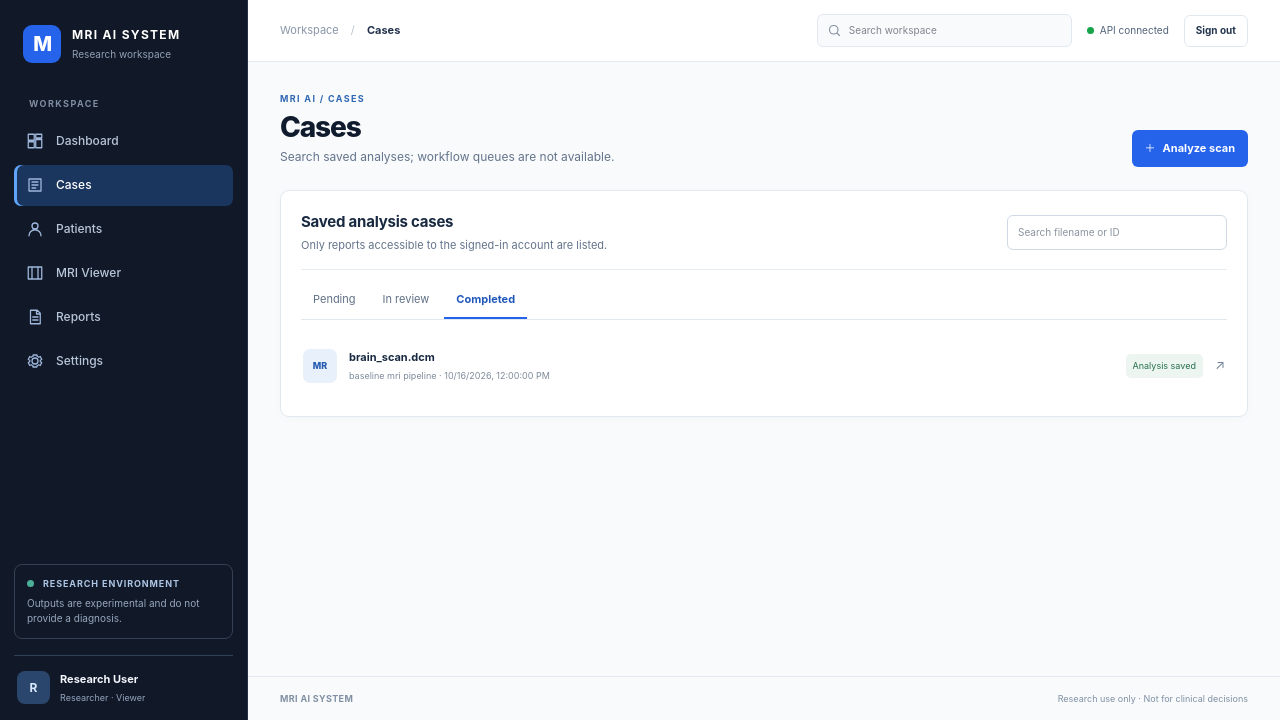
Test: MRI research workspace › shows real owned counts and navigates all available sections
expect the text "brain_scan.dcm" is shown: met, box [349,350,435,364]
expect the heading "Cases" is shown: met, box [280,110,361,144]
Type "no-match" into the field with placeholder "Search filename or ID". click: (1117, 233)
box: [1007,215,1227,250]
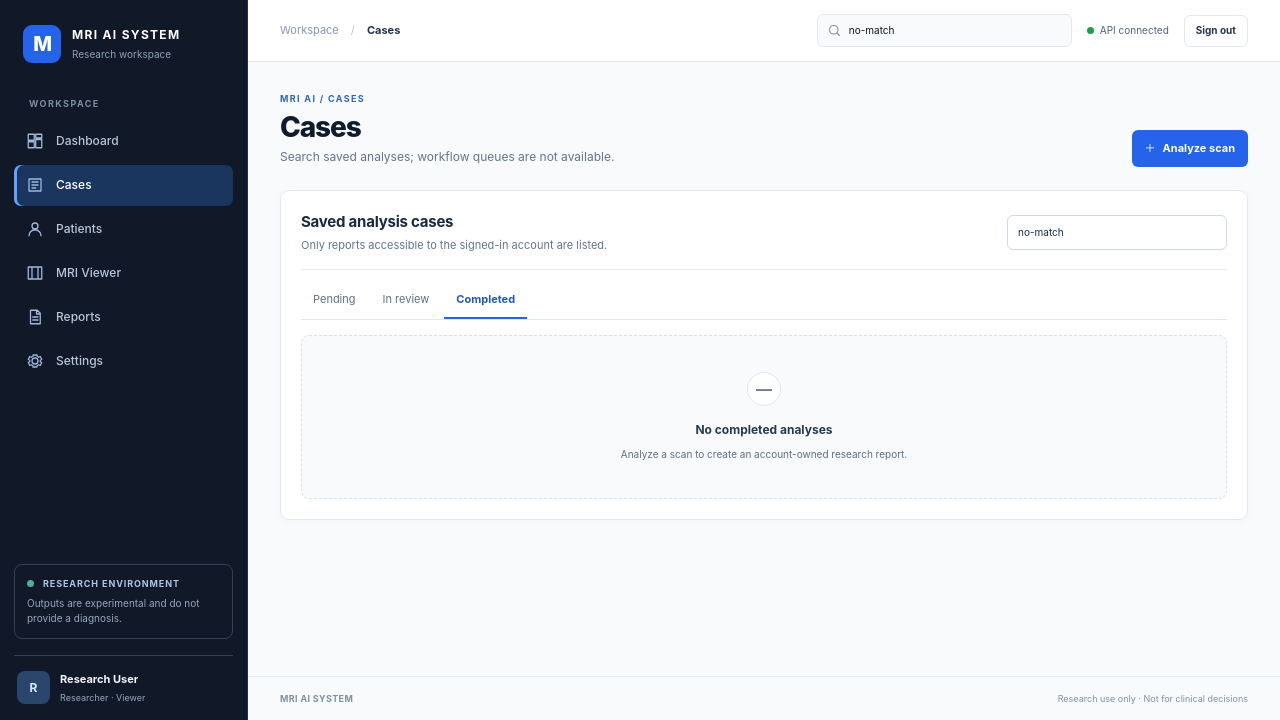
expect the text "No completed analyses" is shown: met, box [695,422,832,437]
Click the tab "Pending". click: (334, 300)
box: [301,281,368,319]
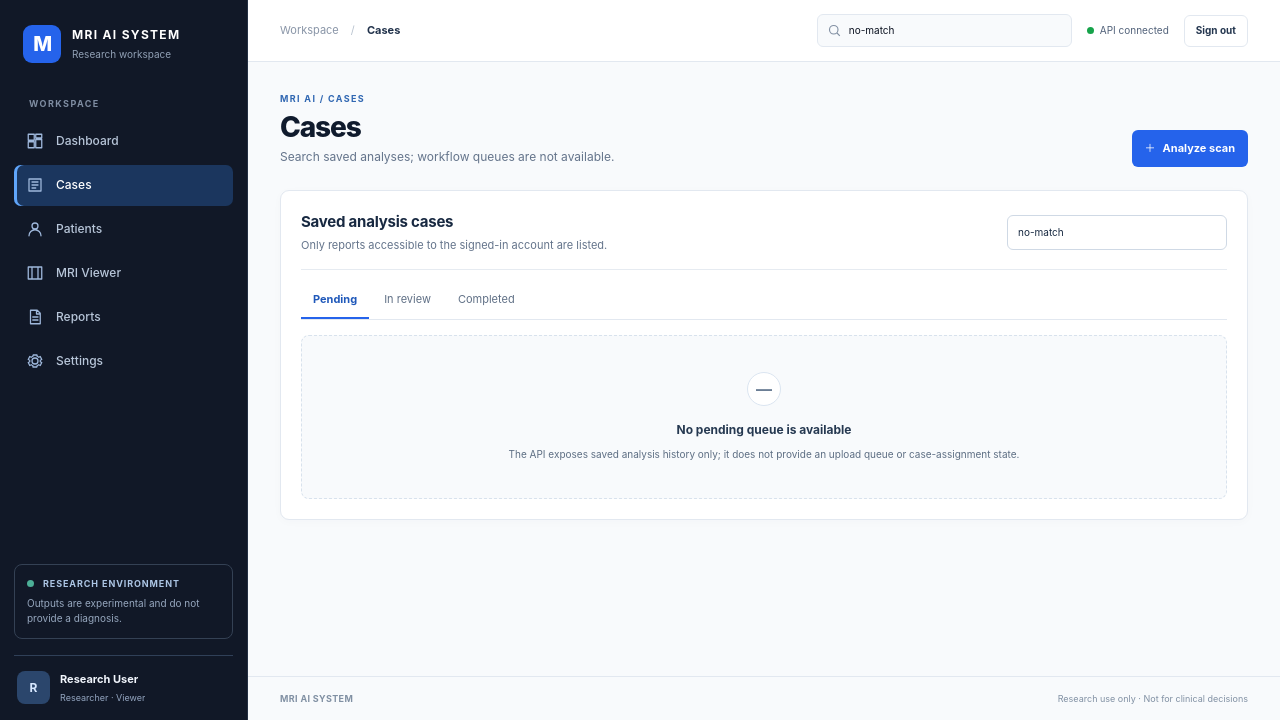
expect the text "No pending queue is available" is shown: met, box [676,422,852,437]
Click the tab "In review". click: (408, 300)
box: [372,281,443,319]
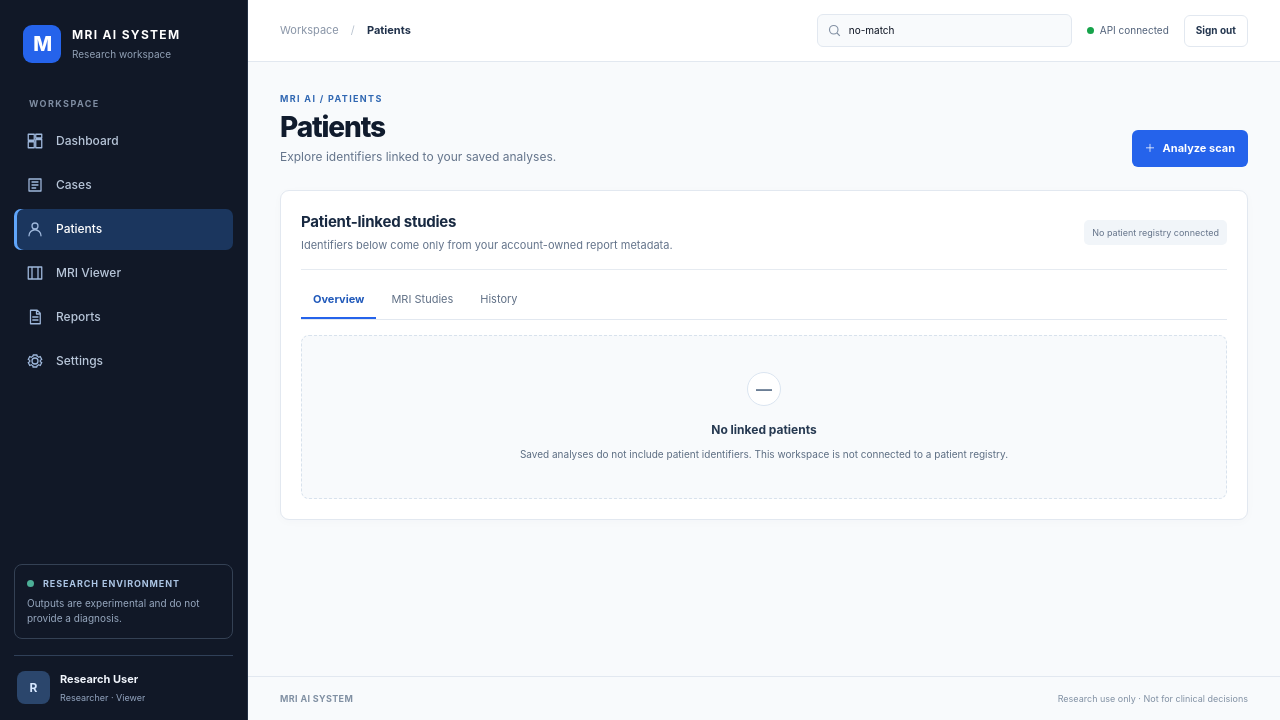
expect the text "No linked patients" is shown: met, box [711,422,817,437]
Clear the field with placeholder "Search workspace". click: (955, 30)
box: [849,23,1062,38]
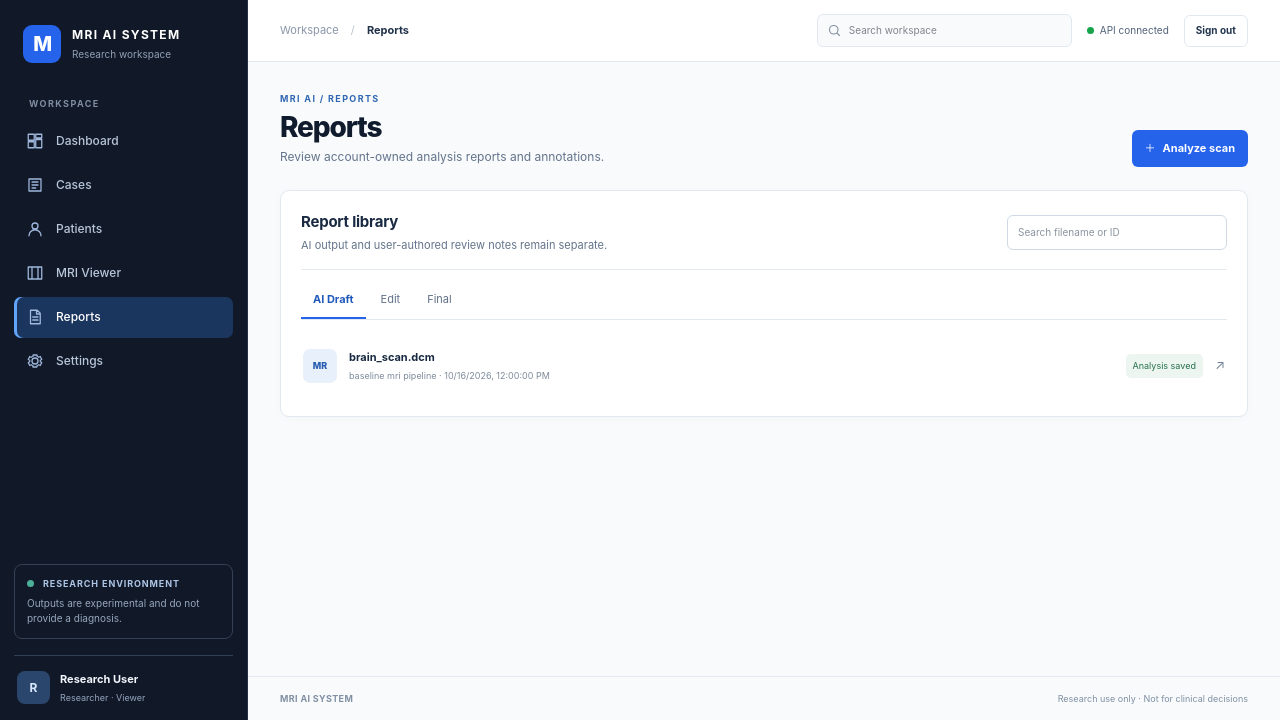
expect the text "brain_scan.dcm" is shown: met, box [349,350,435,364]
Click the tab "Final". click: (439, 300)
box: [415,281,464,319]
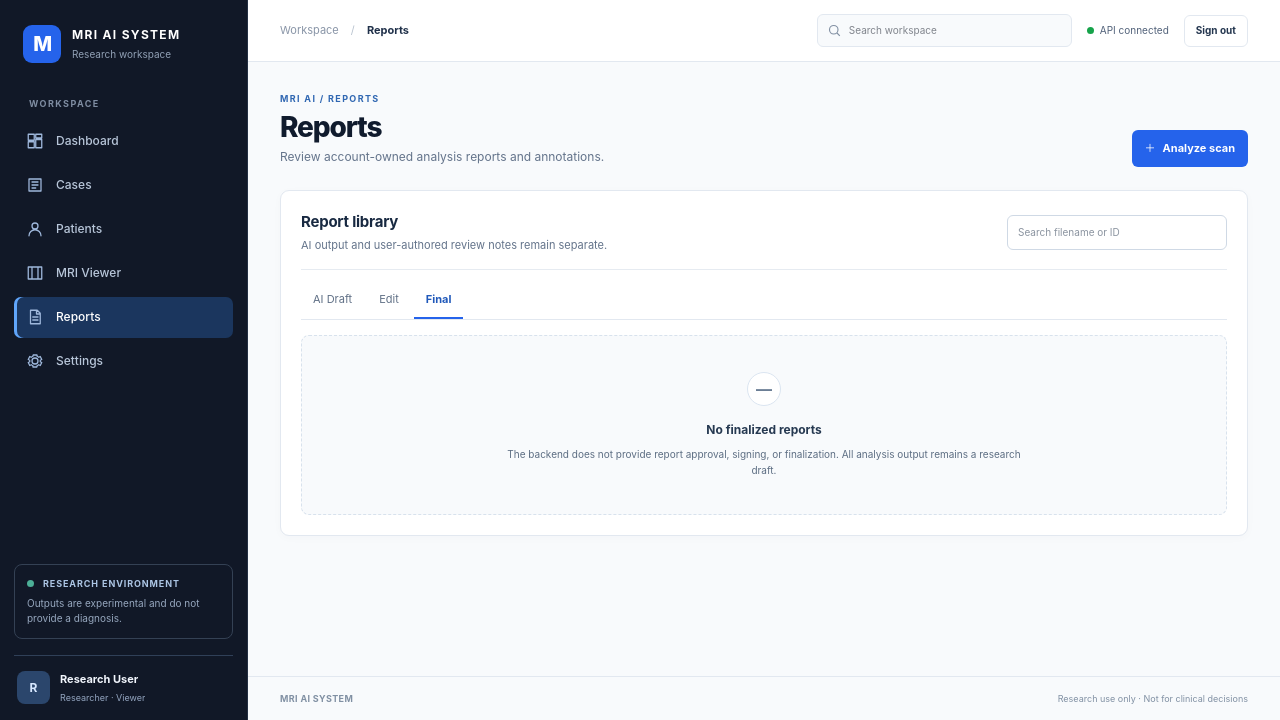
expect the text "No finalized reports" is shown: met, box [706,422,822,437]
